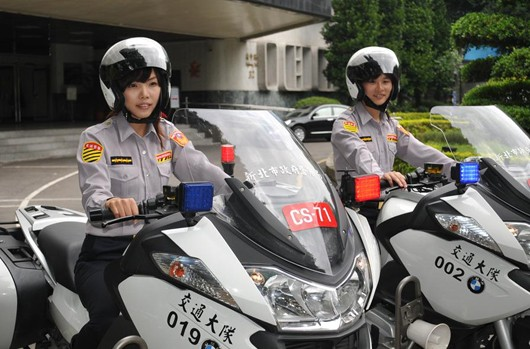helmet: (96, 44, 174, 94), (343, 48, 406, 91)
